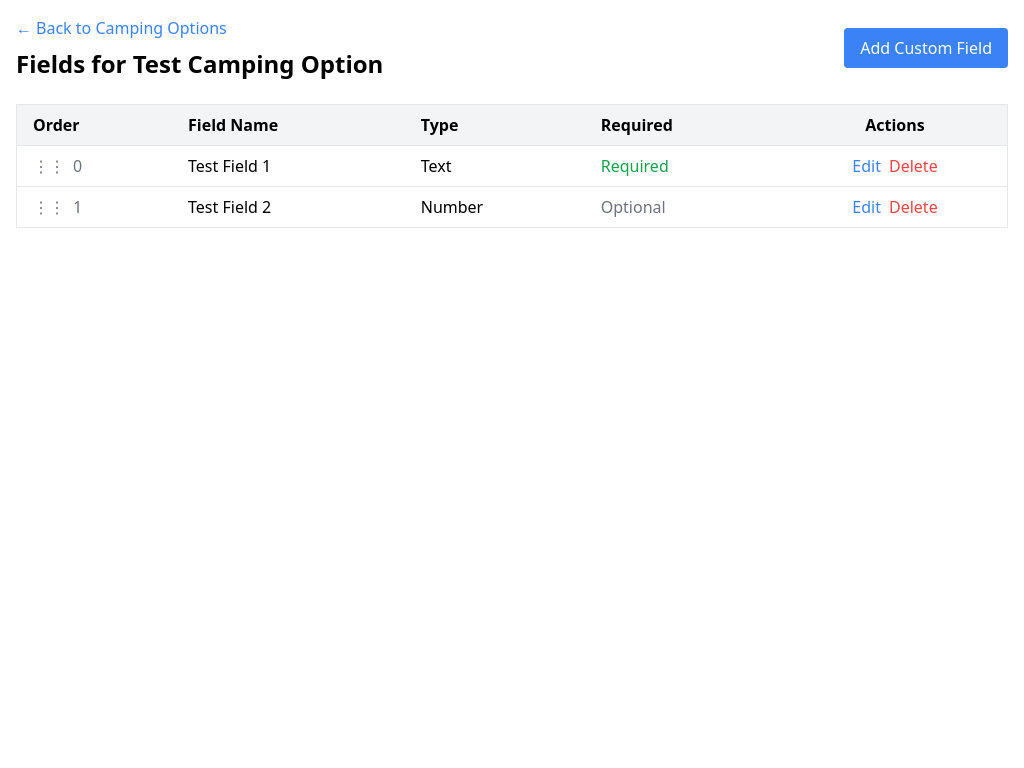
Test: AdminCampingOptionFieldsPage › should open the modal when Add Custom Field button is clicked
The image size is (1024, 768).
# Click the Add Custom Field button
Click the button "Add Custom Field".
click(926, 48)  # box [844,28,1008,68]
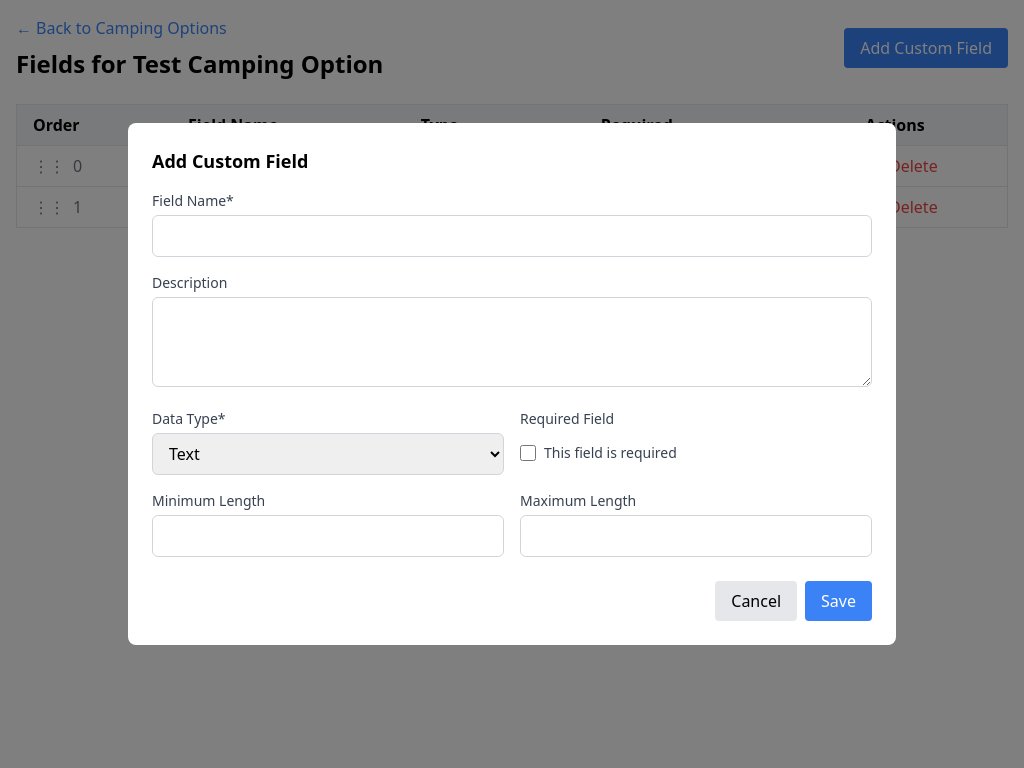
Expected: the heading "Add Custom Field" is shown, [152,149,308,173]
